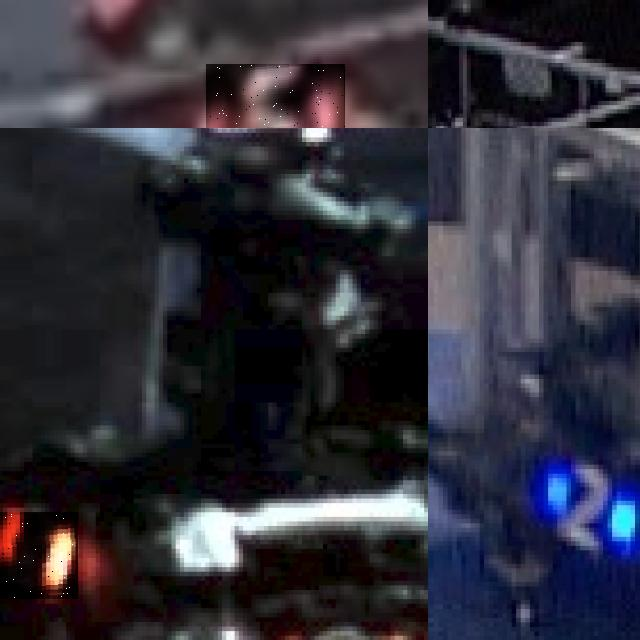B2: (548, 456, 640, 550)
R5: (206, 64, 346, 128)
Rs: (0, 512, 78, 599)
